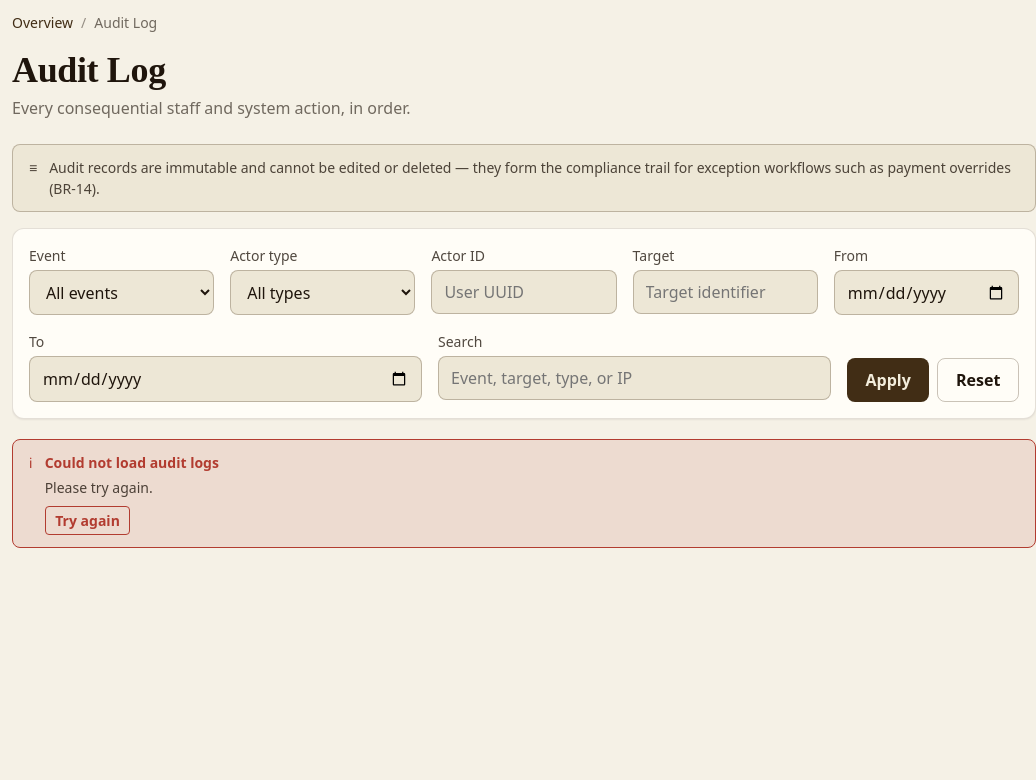
it: AdminAuditPage › shows an error state and retries
Check: the message "ℹ Could not load audit logs Please try again. Try again" is shown, box [12,439,1035,548]
Click the button with class "alert__retry": (88, 520) [45,506,130,535]
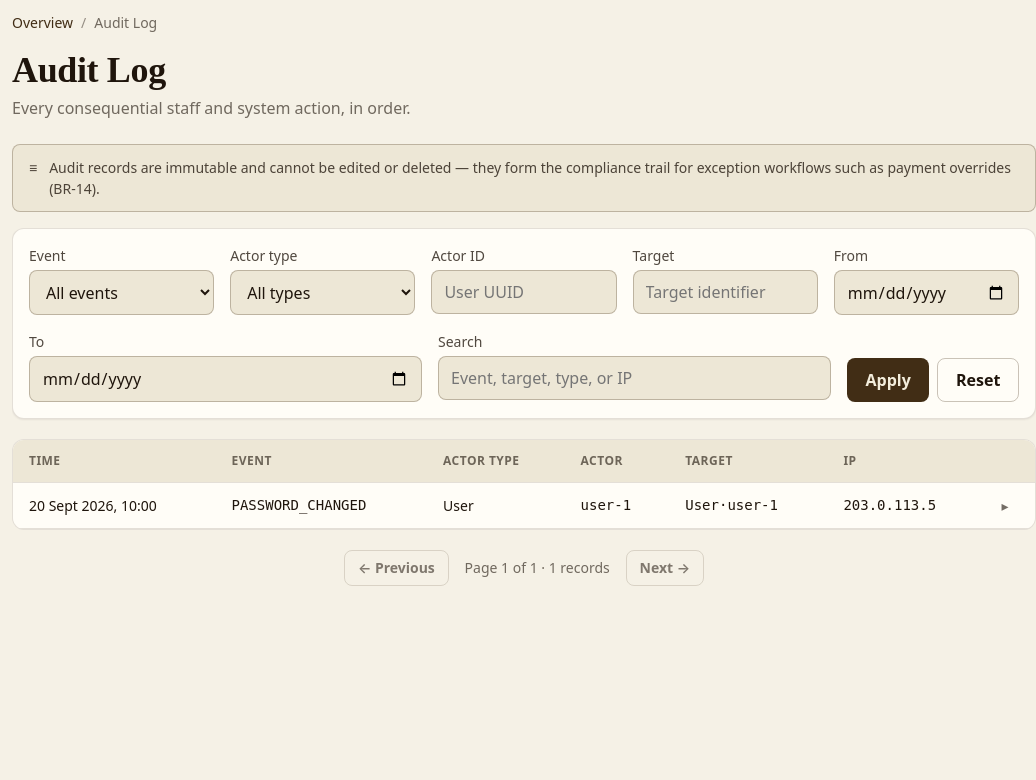
Check: the text "PASSWORD_CHANGED" is shown, box [216,482,427,528]
